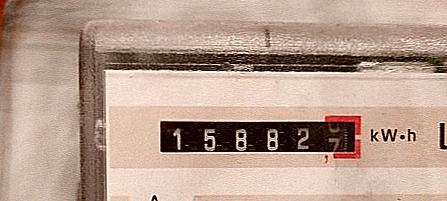1: (170, 125, 182, 151)
2: (294, 126, 310, 151)
5: (201, 126, 215, 152)
7: (325, 135, 340, 152)
8: (232, 126, 248, 151), (264, 126, 279, 152)
screen: (149, 109, 369, 167)
